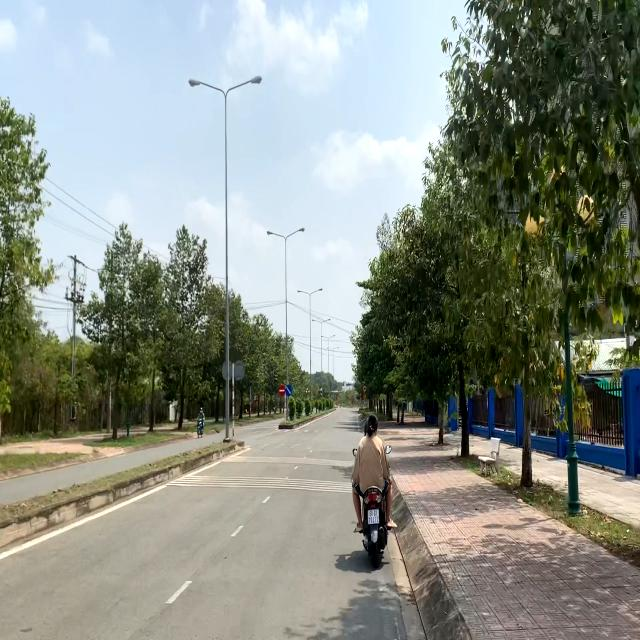P.102: (279, 384, 285, 396)
R.302a: (285, 384, 292, 396)
